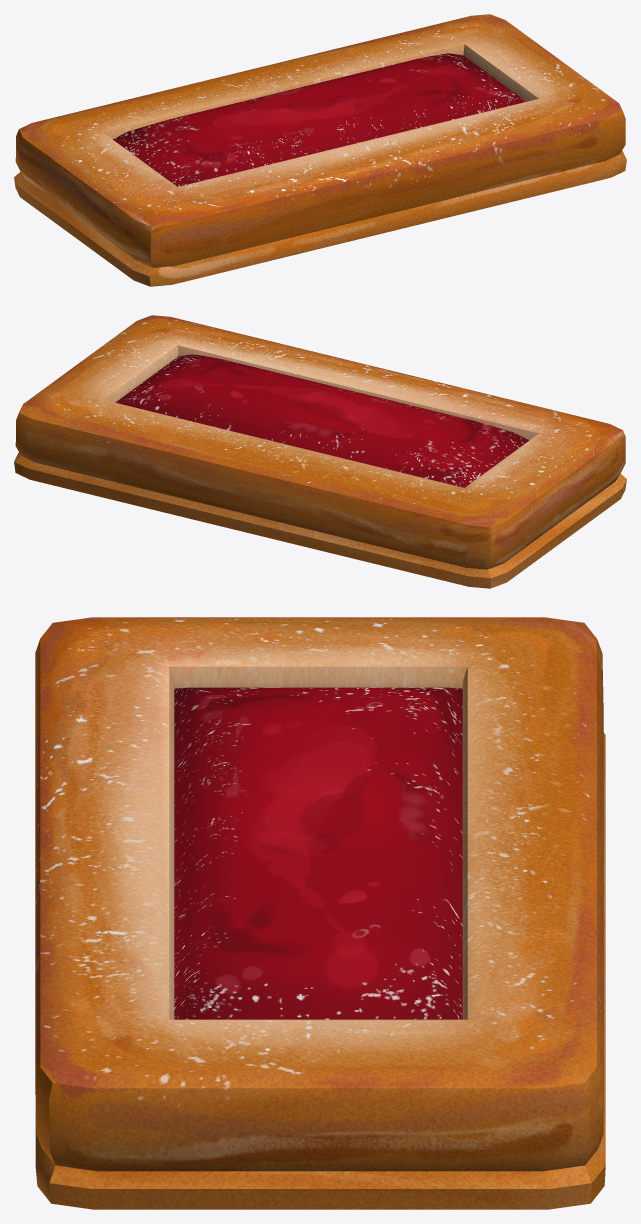
The model's file is aerial2.fbx.
3 renders of one model, top to bottom at view 1: azimuth 30°, elevation 25°; view 2: azimuth 150°, elevation 25°; view 3: azimuth 270°, elevation 25°, orthographic. The views are drawn at different scales.
Bounding box in the file's own units: 20.11 × 2.92 × 10.15.
